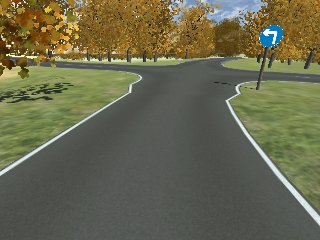left: (260, 25, 282, 47)
